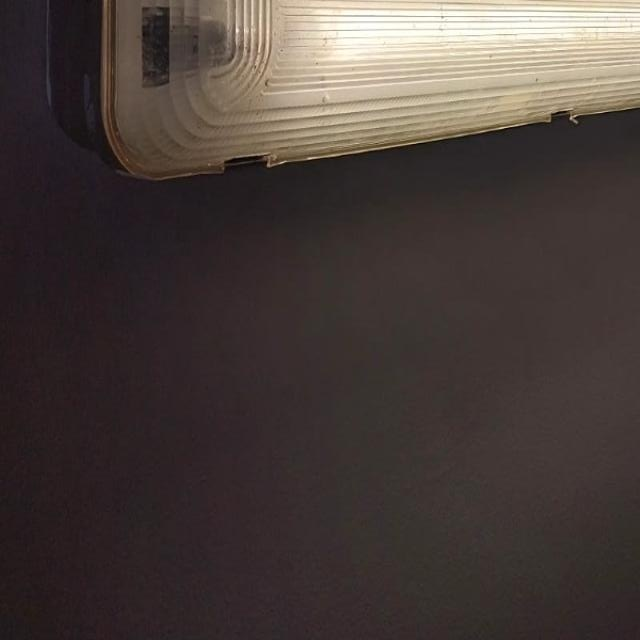fluorescent tube: (37, 1, 640, 203)
